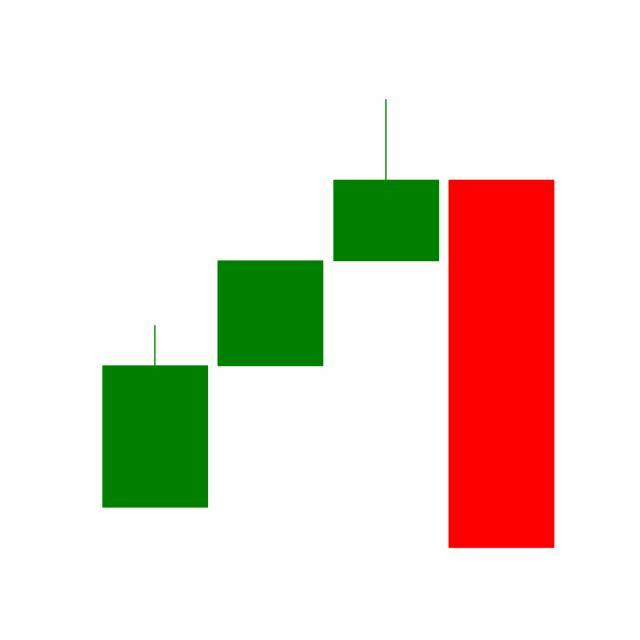Marubozu: (444, 176, 560, 553)
